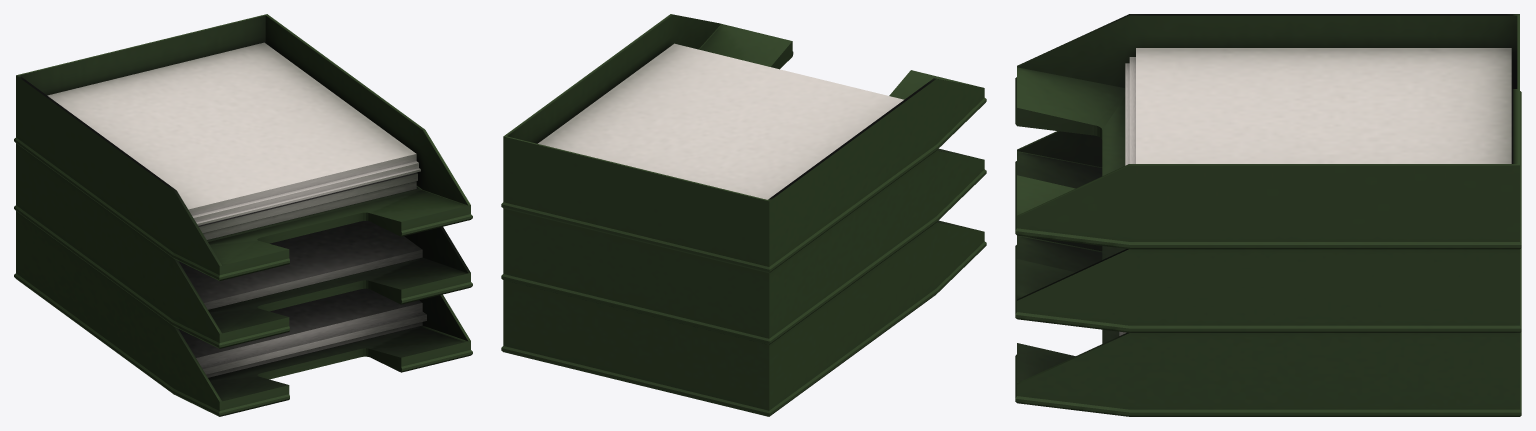
Rendered from DocumentHolder.fbx.
The picture shows the model from 3 angles, left to right: view 1: azimuth 30°, elevation 25°; view 2: azimuth 150°, elevation 25°; view 3: azimuth 270°, elevation 25°; orthographic projection. The views are drawn at different scales.
Parts seen in each view (by area): view 1: DocumentHolder; view 2: DocumentHolder; view 3: DocumentHolder.
Boxes of the visible parts, x1,y1,x2,y2 form: DocumentHolder: (14, 14, 472, 416); DocumentHolder: (501, 14, 986, 416); DocumentHolder: (1015, 14, 1521, 416).
Bounding box in the file's own units: 39.49 × 30.31 × 55.29.
1 material, 1 textured.
